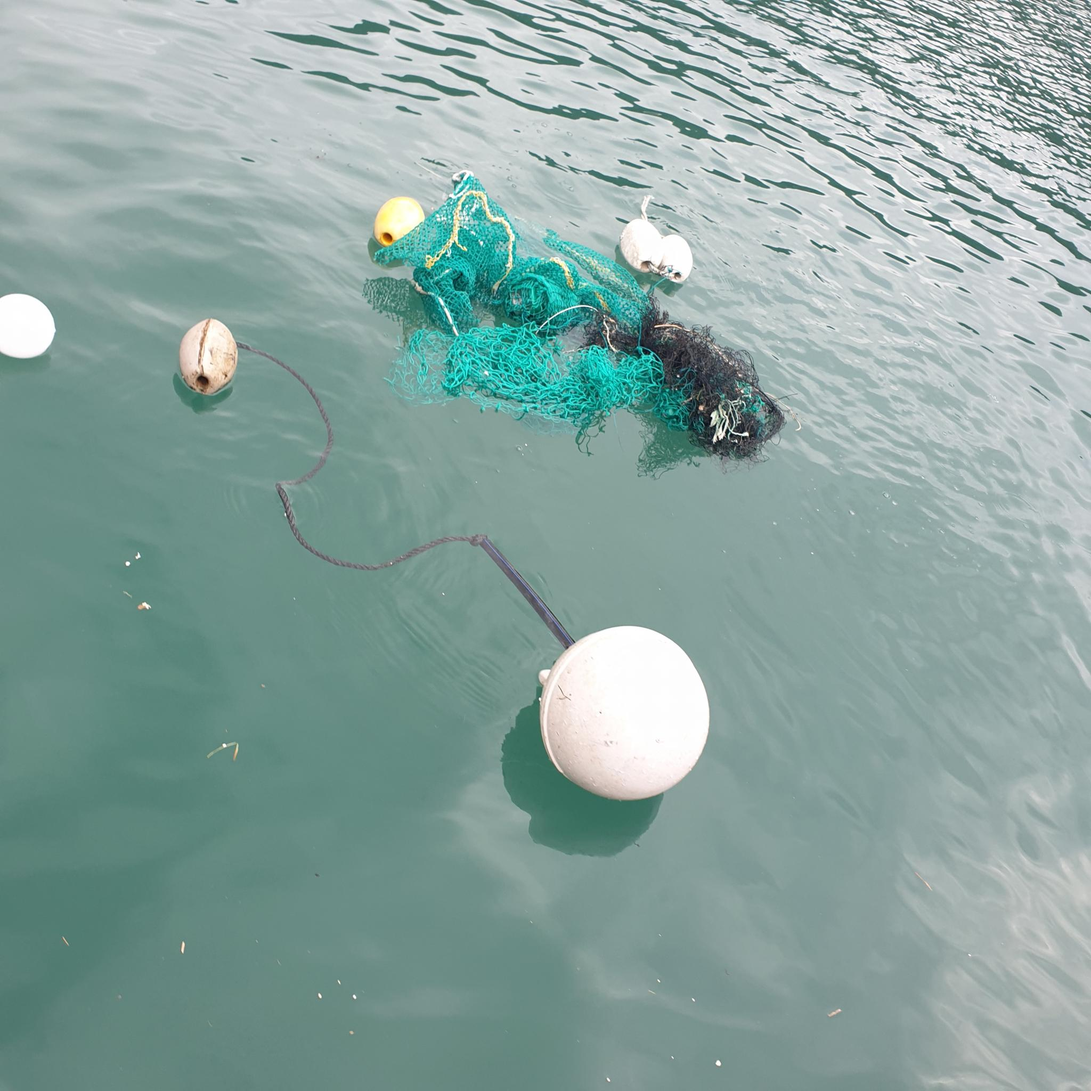sampah_terapung: (372, 170, 787, 461), (238, 338, 486, 574), (539, 627, 712, 802), (177, 317, 238, 397), (1, 293, 57, 360), (374, 197, 426, 248), (620, 219, 663, 273), (663, 235, 694, 283), (640, 196, 655, 222)
